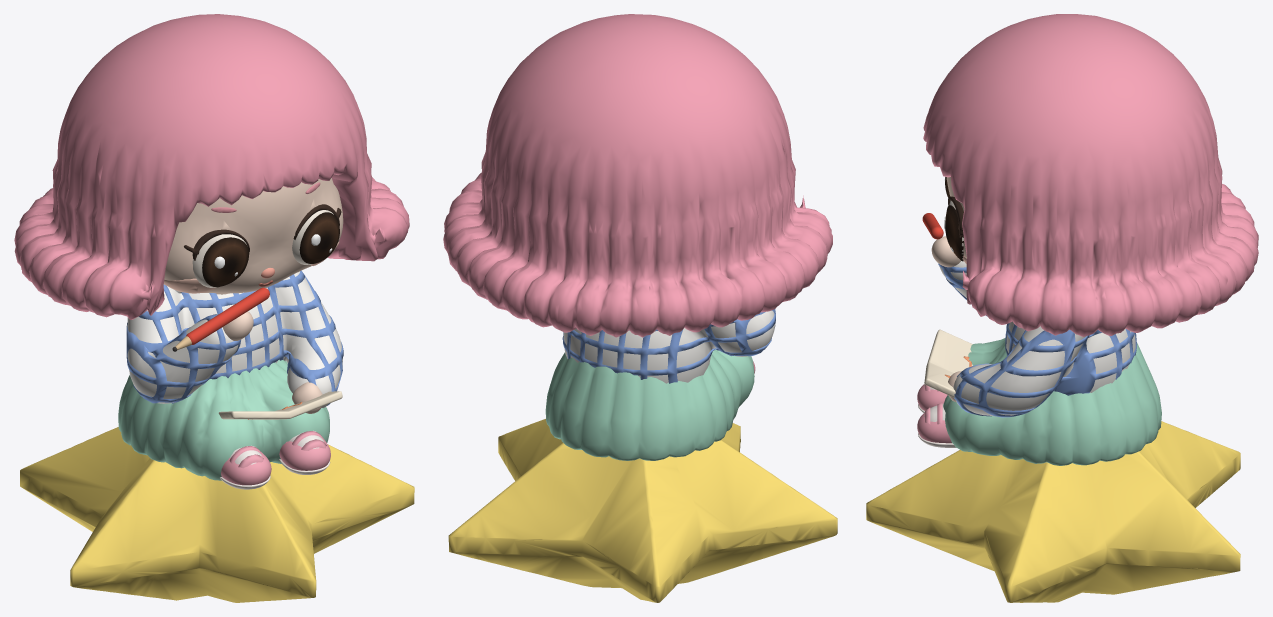
Rendered from wishing_roblox.glb.
3 views of the same model, side by side, from view 1: azimuth 30°, elevation 25°; view 2: azimuth 150°, elevation 25°; view 3: azimuth 270°, elevation 25° (orthographic).
Parts seen in each view (by area): view 1: Wishing_Hair, Wishing_StarSeat, Wishing_Skirt, Wishing_Shirt, Wishing_Head, Wishing_Gingham, Wishing_Iris, Wishing_Shoes, Wishing_Notebook, Wishing_Pencil, Wishing_Hands, Wishing_Eyes (+3 smaller); view 2: Wishing_Hair, Wishing_StarSeat, Wishing_Skirt, Wishing_Shirt, Wishing_Gingham; view 3: Wishing_Hair, Wishing_StarSeat, Wishing_Skirt, Wishing_Gingham, Wishing_Shirt, Wishing_Notebook, Wishing_Shoes, Wishing_Iris, Wishing_Hands.
Part boxes in pixels (box(x1,y1,x2,y2)): Wishing_Hair: box(14, 14, 409, 319); Wishing_StarSeat: box(20, 427, 414, 602); Wishing_Skirt: box(118, 359, 329, 480); Wishing_Shirt: box(127, 271, 342, 407); Wishing_Head: box(164, 178, 343, 294); Wishing_Gingham: box(126, 270, 343, 405); Wishing_Iris: box(202, 212, 339, 287); Wishing_Shoes: box(221, 440, 330, 485); Wishing_Notebook: box(218, 391, 342, 419); Wishing_Pencil: box(186, 287, 269, 344); Wishing_Hands: box(222, 311, 322, 413); Wishing_Eyes: box(192, 210, 333, 287); Wishing_Hair: box(443, 14, 832, 337); Wishing_StarSeat: box(448, 419, 837, 602); Wishing_Skirt: box(545, 349, 754, 460); Wishing_Shirt: box(563, 310, 775, 383); Wishing_Gingham: box(562, 309, 775, 383); Wishing_Hair: box(923, 14, 1258, 336); Wishing_StarSeat: box(866, 421, 1240, 602); Wishing_Skirt: box(943, 338, 1161, 465); Wishing_Gingham: box(938, 263, 1136, 417); Wishing_Shirt: box(939, 261, 1135, 416); Wishing_Notebook: box(924, 329, 972, 397); Wishing_Shoes: box(917, 384, 951, 443); Wishing_Iris: box(945, 177, 963, 261); Wishing_Hands: box(931, 236, 961, 401).
Bounding box in the file's own units: 2.26 × 3.46 × 2.23.
Materials: 23 (23 with a texture image).
